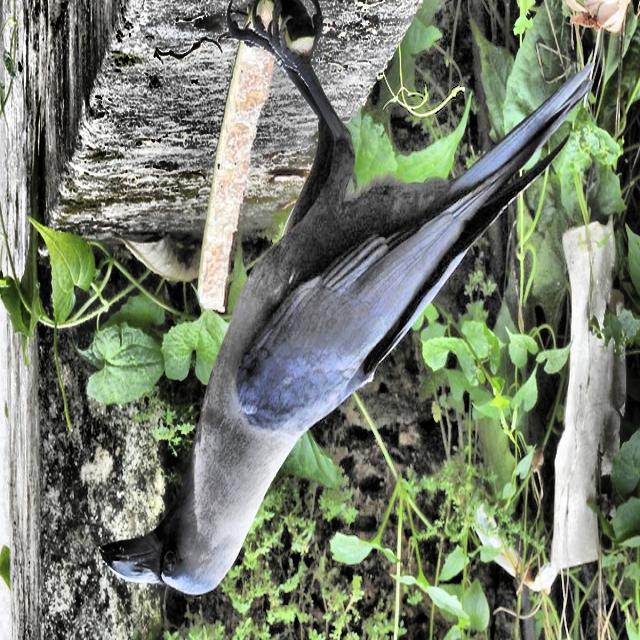crow: (96, 1, 610, 596)
